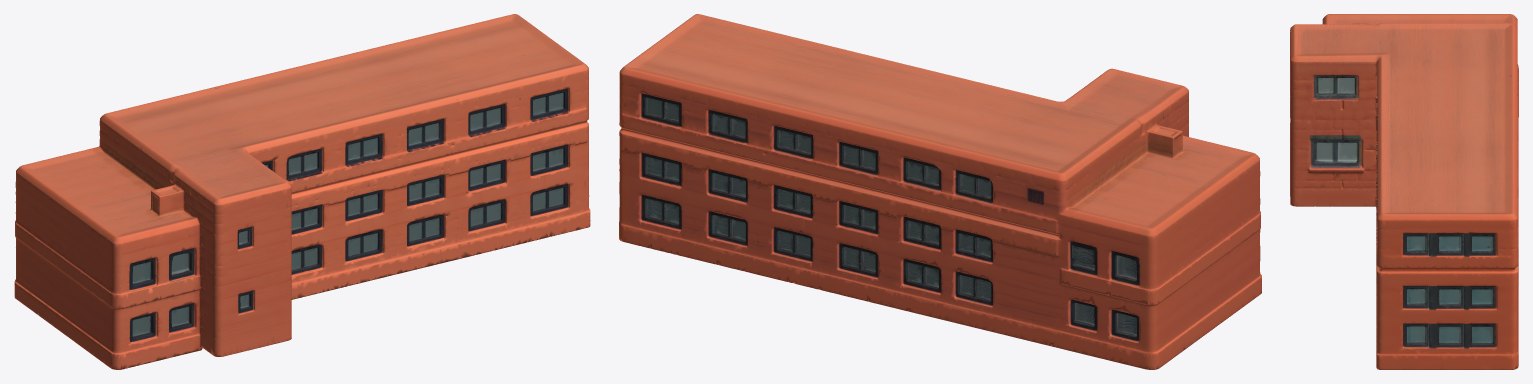
Rendered from jiseon.glb.
The picture shows the model from 3 angles, left to right: view 1: azimuth 30°, elevation 25°; view 2: azimuth 150°, elevation 25°; view 3: azimuth 270°, elevation 25°; orthographic projection. The views are drawn at different scales.
Parts seen in each view (by area): view 1: Mesh_0.009; view 2: Mesh_0.009; view 3: Mesh_0.009.
Part boxes in pixels (x1,y1,x2,y2): Mesh_0.009: (14, 14, 590, 369); Mesh_0.009: (619, 14, 1261, 369); Mesh_0.009: (1290, 14, 1518, 369).
Size of the model in its own units: 81.34 by 24.82 by 33.46.
Materials: 1 (1 with a texture image).
